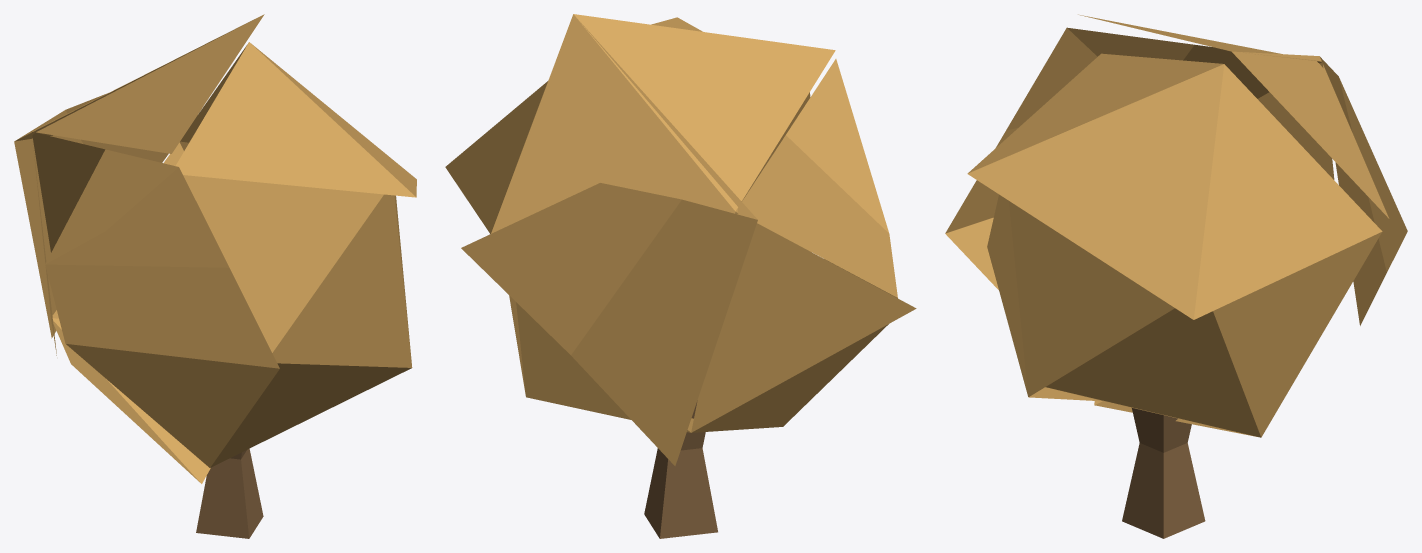
The model's file is Bush.glb.
3 renders of one model, left to right at view 1: azimuth 30°, elevation 25°; view 2: azimuth 150°, elevation 25°; view 3: azimuth 270°, elevation 25°, orthographic. The views are drawn at different scales.
Parts seen in each view (by area): view 1: Bush; view 2: Bush; view 3: Bush.
Part boxes in pixels (box(x1,y1,x2,y2)): Bush: box(14, 14, 416, 538); Bush: box(445, 14, 916, 538); Bush: box(945, 14, 1407, 538).
Size of the model in its own units: 1.4 by 1.6 by 1.33.
